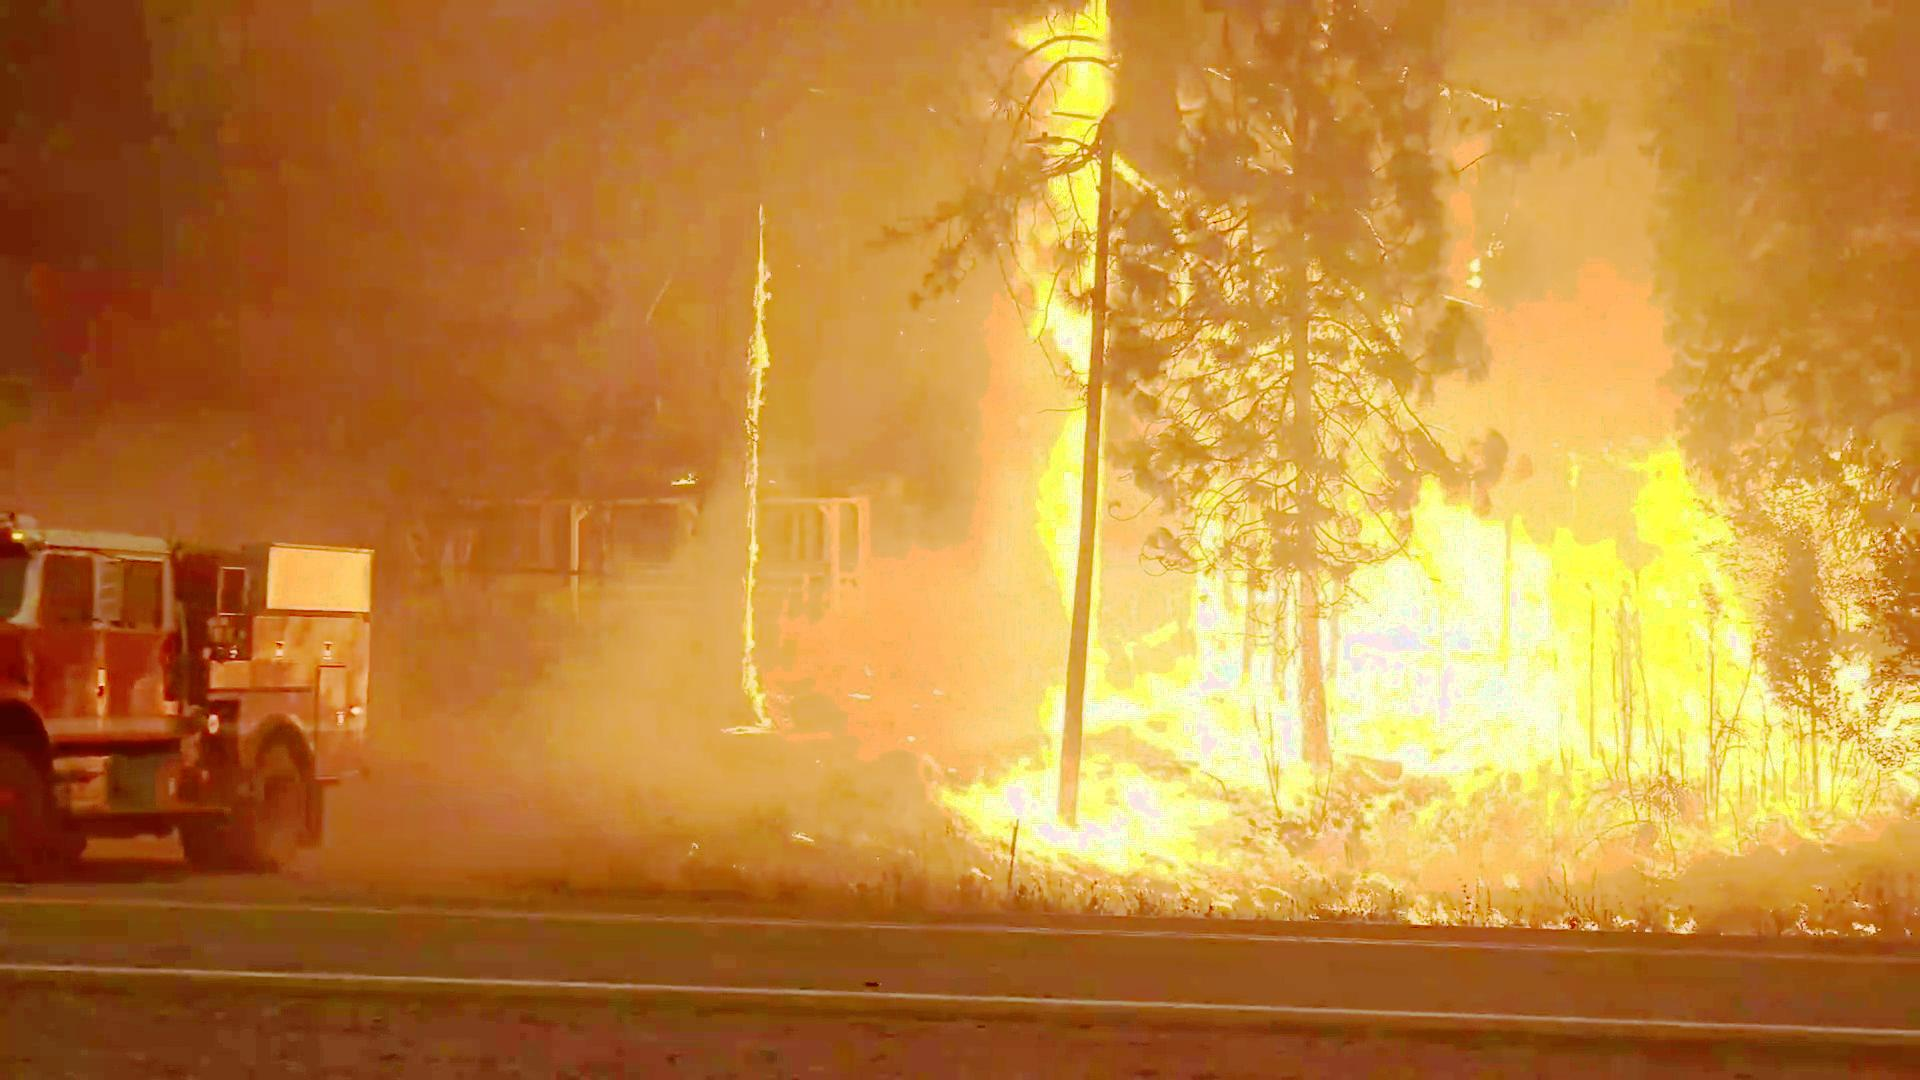fire: (1368, 496, 1735, 783), (1028, 18, 1095, 589), (1095, 530, 1241, 787)
